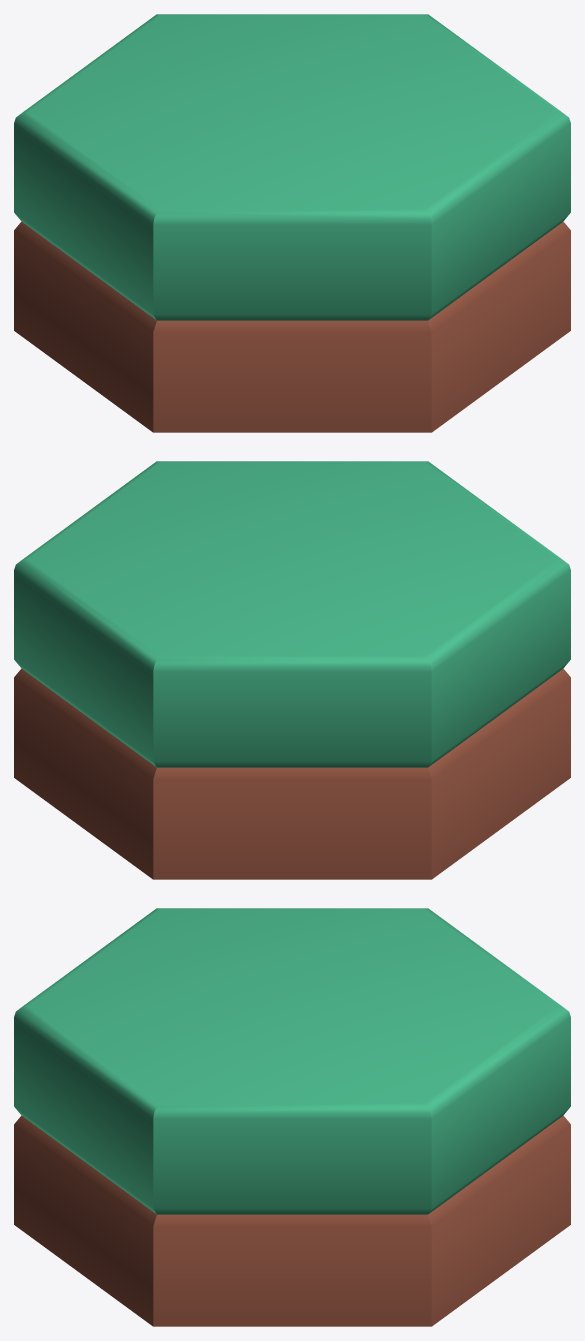
File: hex_forest_detail.glb
The picture shows the model from 3 angles, top to bottom: view 1: azimuth 30°, elevation 25°; view 2: azimuth 150°, elevation 25°; view 3: azimuth 270°, elevation 25°; orthographic projection.
Visible parts, largest first — view 1: hex_forest_detail; view 2: hex_forest_detail; view 3: hex_forest_detail.
Part boxes in pixels (box(x1,y1,x2,y2)): hex_forest_detail: box(14, 14, 570, 432); hex_forest_detail: box(14, 461, 570, 879); hex_forest_detail: box(14, 908, 570, 1326).
Size of the model in its own units: 2 by 1 by 2.31.
